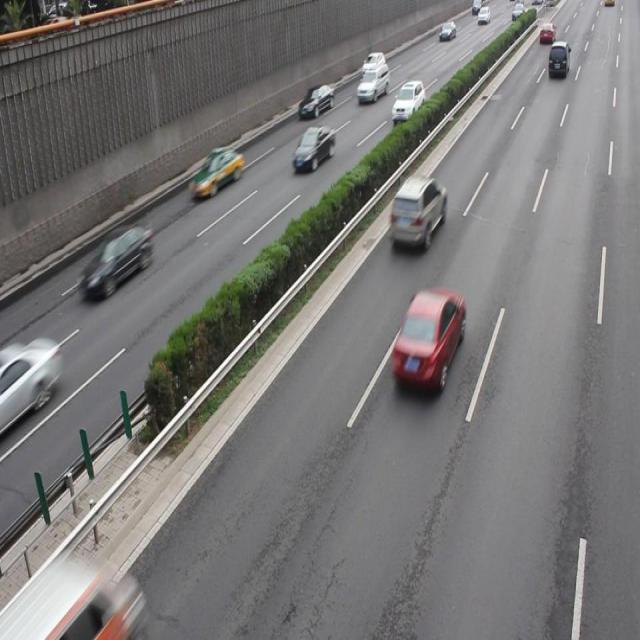car: (390, 285, 464, 393), (0, 335, 60, 433), (79, 223, 152, 300), (388, 172, 447, 252), (188, 146, 243, 198), (292, 123, 335, 172), (390, 80, 424, 124), (297, 83, 333, 120)
